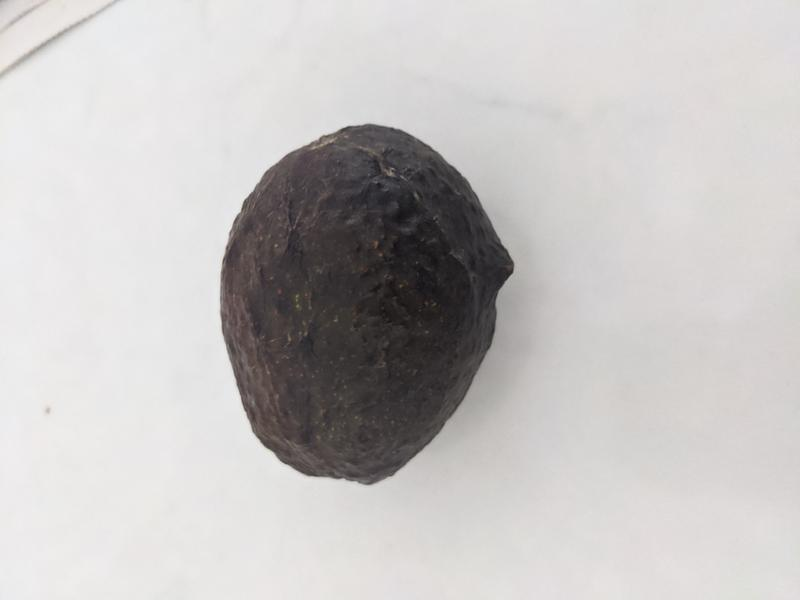avocado: (217, 126, 515, 486)
